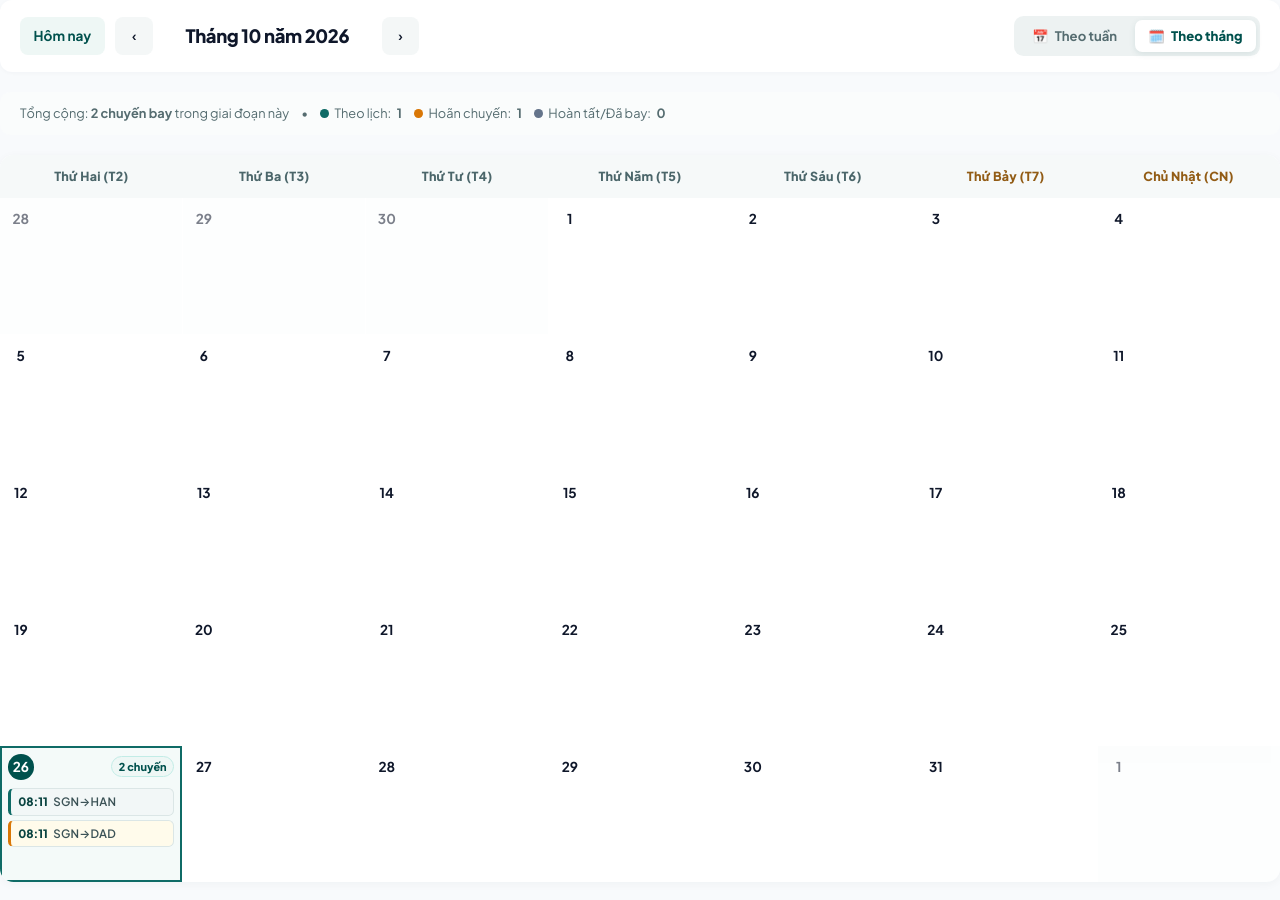
Test case: FlightCalendarView component › switches to Week View when clicking "Theo tuần"
This screenshot has width=1280, height=900.
Click the button "📅 Theo tuần" at (1075, 36), box [1018,20,1131,52]
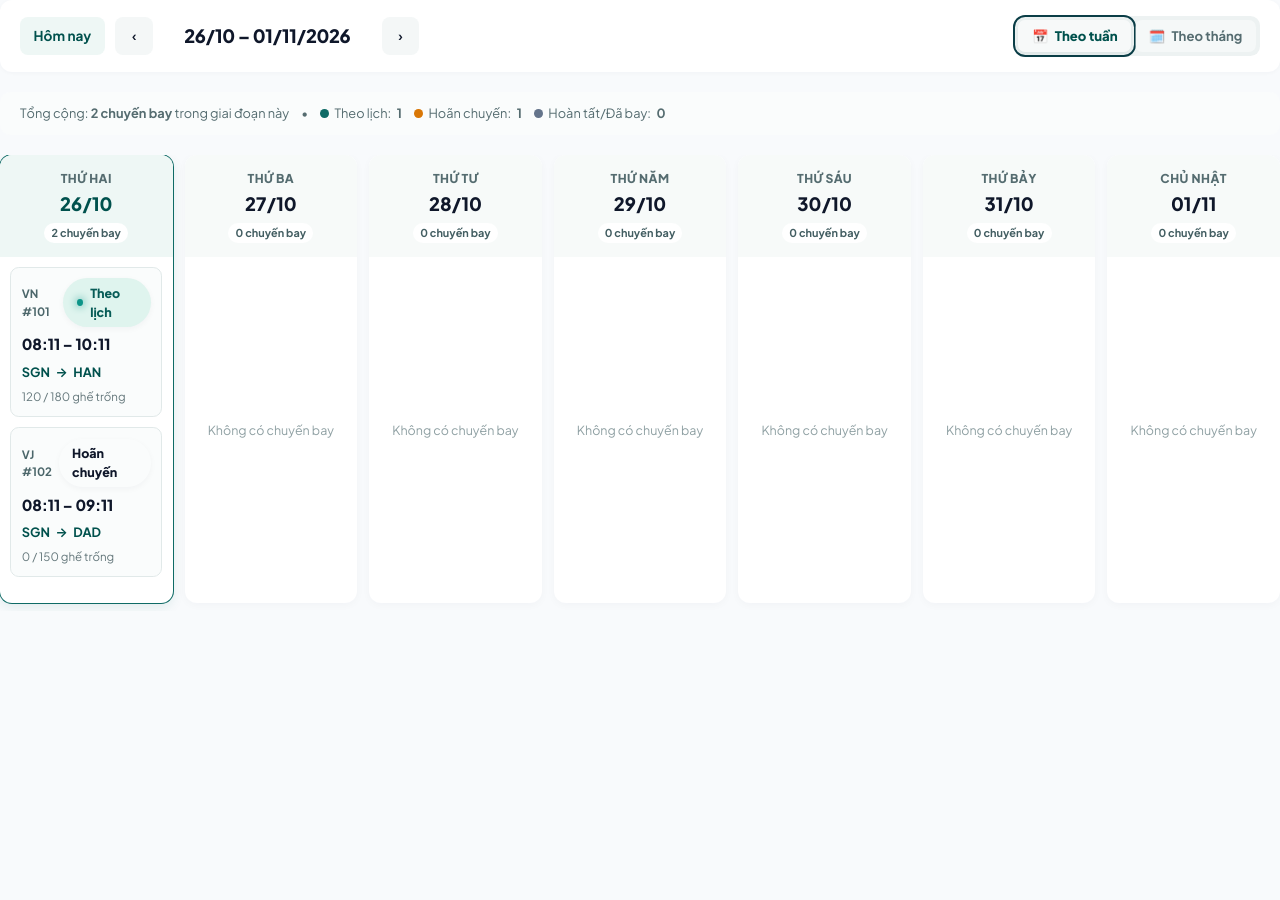
Expected: the text "2 chuyến bay" next to "Tổng cộng:" is shown, [98,105,172,121]
Expected: the text "VN #101" is shown, [22,286,50,319]
Expected: the text "VJ #102" is shown, [22,447,52,479]
